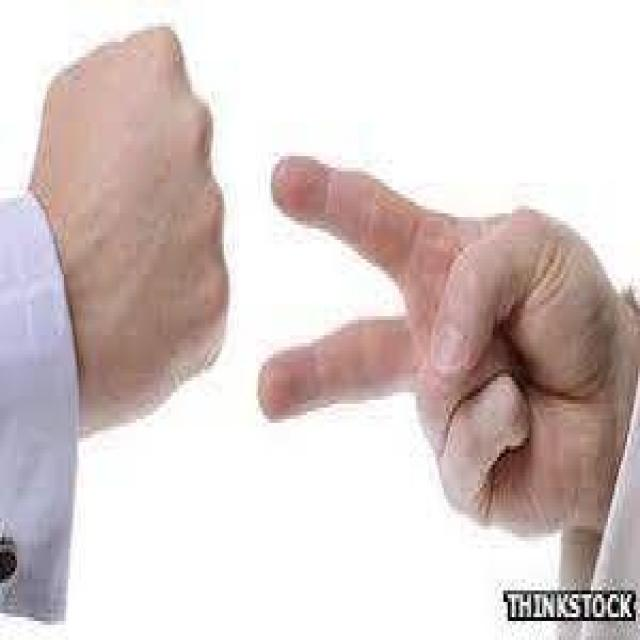rock: (14, 20, 239, 506)
scirssors: (256, 103, 640, 575)
